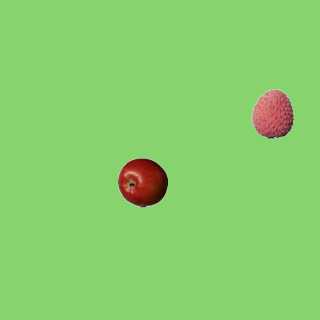Apple Braeburn: (117, 157, 167, 207)
Lychee: (247, 88, 297, 138)
